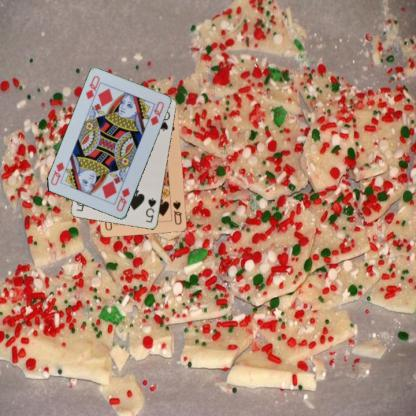5s: (143, 195, 157, 224)
Qd: (83, 74, 102, 104), (114, 186, 131, 212)
Qs: (171, 198, 183, 226)
